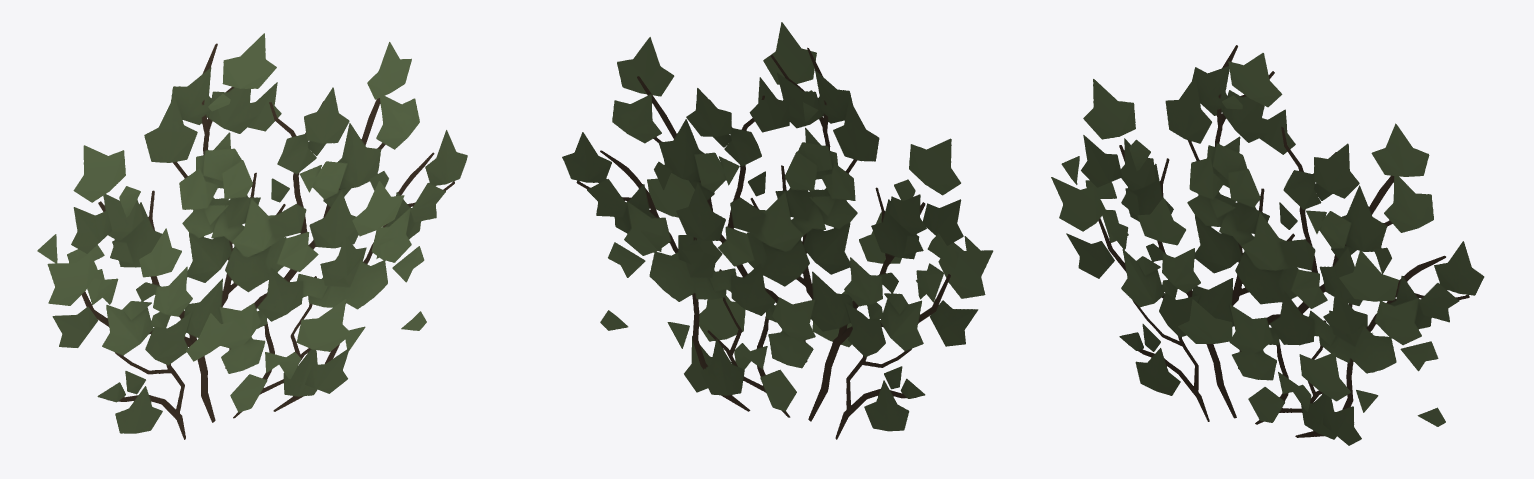
The model's file is SM_Env_Vines_02.fbx.
The picture shows the model from 3 angles, left to right: view 1: azimuth 30°, elevation 25°; view 2: azimuth 150°, elevation 25°; view 3: azimuth 330°, elevation 25°; orthographic projection.
Visible parts, largest first — view 1: SM_Env_Vines_02; view 2: SM_Env_Vines_02; view 3: SM_Env_Vines_02.
Part boxes in pixels (x1=…): SM_Env_Vines_02: x1=37, y1=33, x2=467, y2=439; SM_Env_Vines_02: x1=562, y1=22, x2=993, y2=439; SM_Env_Vines_02: x1=1051, y1=45, x2=1484, y2=445.
Bounding box in the file's own units: 243 × 204 × 21.56.
